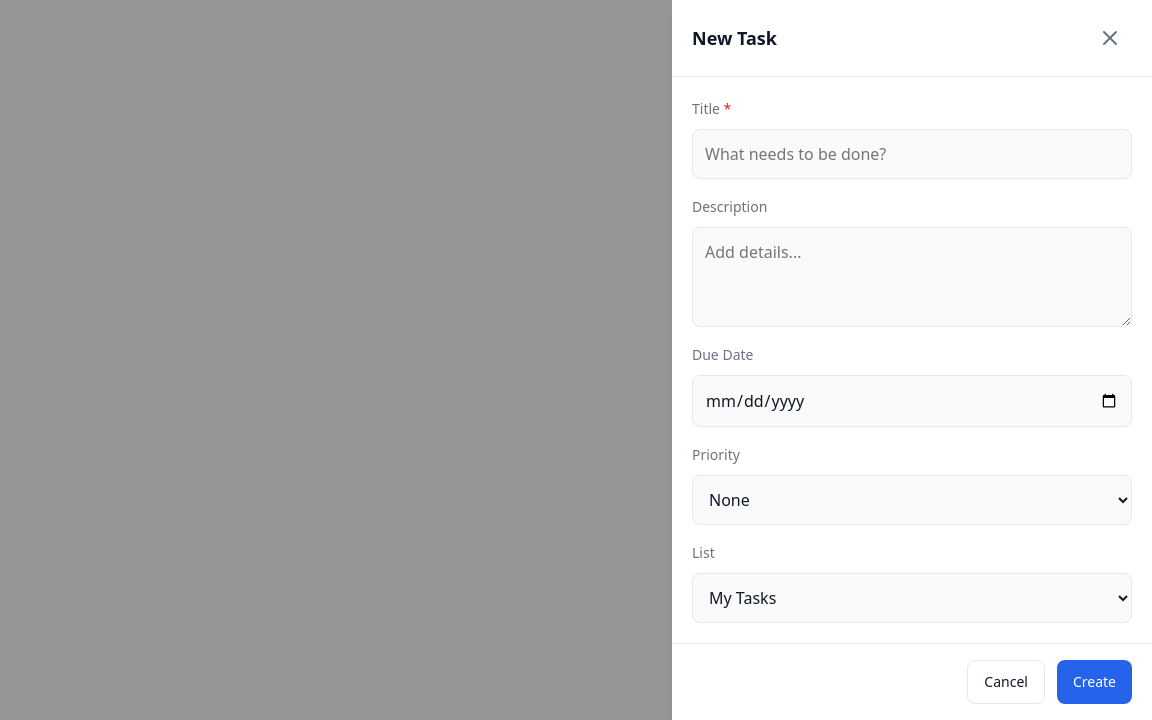
Test: TaskFormPanel › validation › shows error when submitting with empty title
Click the button "Create" at (1094, 682), box [1057,660,1132,704]
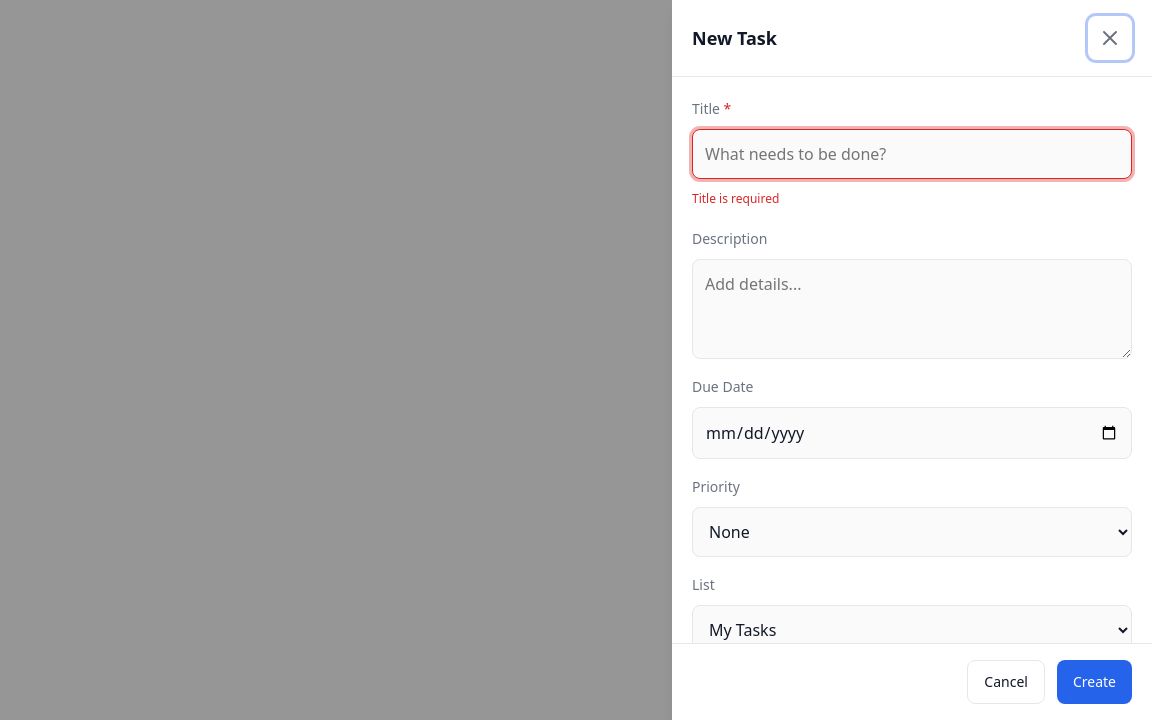
Result: the text "Title is required" is shown at [692,190,779,207]
